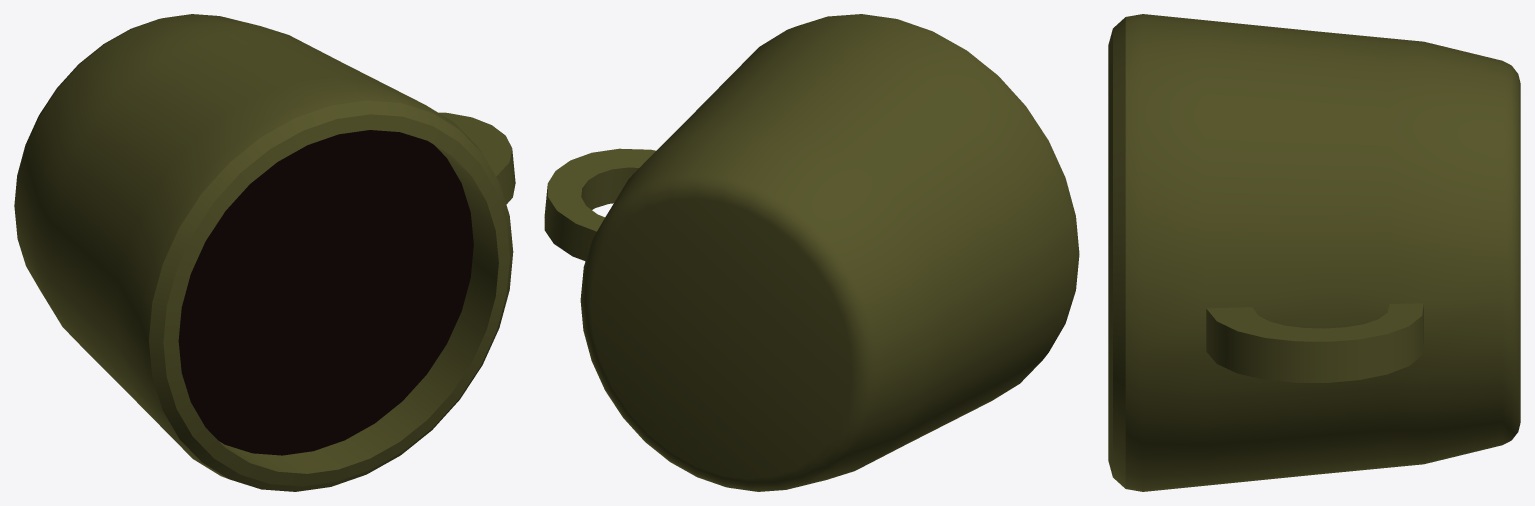
The model's file is ordinaryCoffee.obj.
3 renders of one model, left to right at view 1: azimuth 30°, elevation 25°; view 2: azimuth 150°, elevation 25°; view 3: azimuth 270°, elevation 25°, orthographic. The views are drawn at different scales.
Visible parts, largest first — view 1: Cylinder, Cylinder.001; view 2: Cylinder; view 3: Cylinder.
Boxes of the visible parts, x1,y1,x2,y2 form: Cylinder: (14, 14, 515, 491); Cylinder.001: (178, 130, 473, 455); Cylinder: (544, 14, 1079, 491); Cylinder: (1108, 14, 1520, 491).
Size of the model in its own units: 2.76 by 2.32 by 2.
